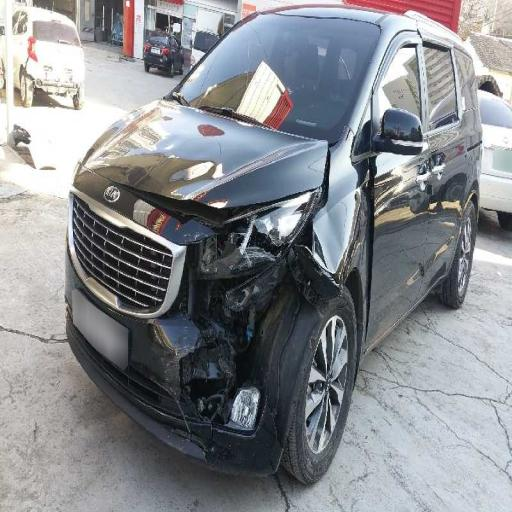broken: (140, 174, 292, 440)
